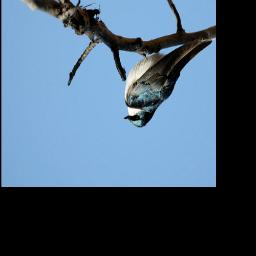Swallow: (123, 37, 213, 129)
